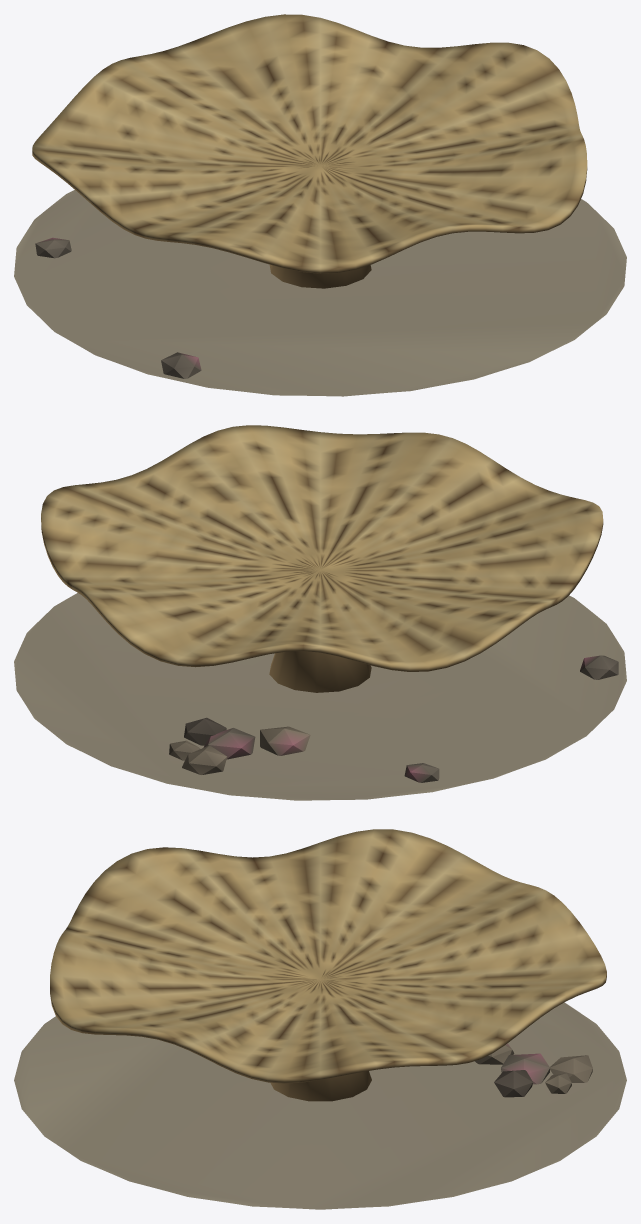
File: Gigantospongia.fbx
3 views of the same model, one above another, from view 1: azimuth 30°, elevation 25°; view 2: azimuth 150°, elevation 25°; view 3: azimuth 270°, elevation 25° (orthographic).
Visible parts, largest first — view 1: Gigantospongia; view 2: Gigantospongia; view 3: Gigantospongia.
Boxes of the visible parts, x1=… form: Gigantospongia: x1=14, y1=14, x2=626, y2=396; Gigantospongia: x1=14, y1=425, x2=626, y2=800; Gigantospongia: x1=14, y1=829, x2=626, y2=1209.
Bounding box in the file's own units: 1.9 × 0.495 × 1.9.
